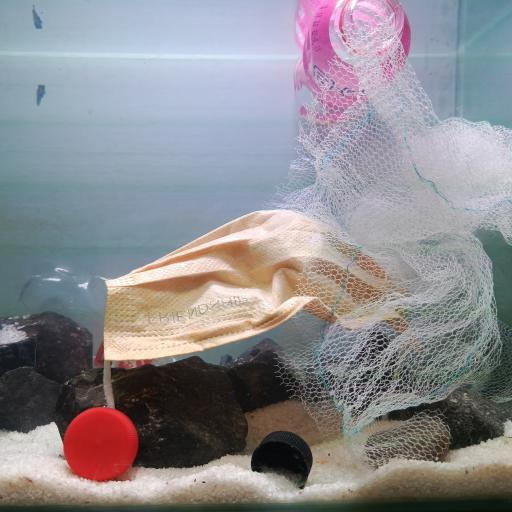bottle_cap: (64, 405, 138, 482), (250, 432, 313, 490)
mask: (100, 208, 440, 373)
net: (254, 7, 512, 459)
plastic_bottle: (17, 269, 242, 371), (296, 0, 414, 124)
